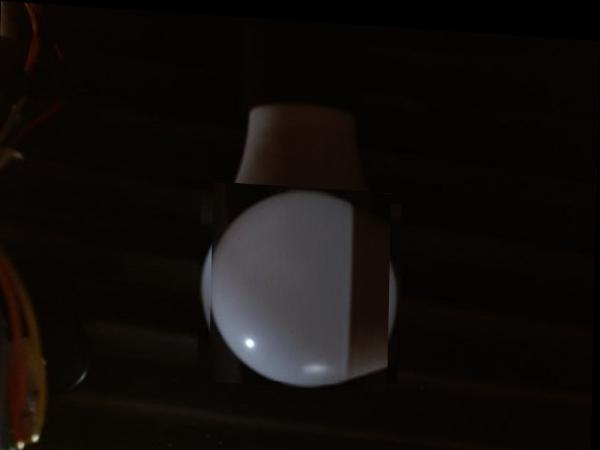Fan: (204, 181, 396, 381)
